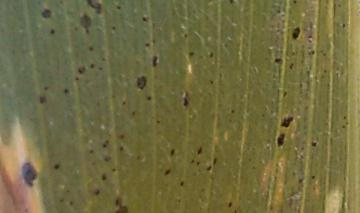tarspot: (20, 160, 38, 187), (78, 12, 92, 36), (113, 196, 129, 213), (134, 75, 147, 92), (280, 115, 294, 130), (86, 1, 102, 14), (276, 132, 286, 147), (291, 25, 301, 40), (182, 90, 190, 108), (40, 8, 52, 20), (150, 54, 159, 69), (37, 95, 48, 105), (77, 63, 86, 74), (211, 156, 219, 168), (140, 15, 150, 24), (101, 154, 111, 163), (161, 167, 171, 176), (117, 132, 126, 141), (196, 145, 203, 156), (310, 139, 318, 148), (273, 57, 282, 65), (62, 87, 71, 95), (87, 44, 95, 53), (168, 148, 176, 157), (151, 38, 157, 49), (154, 118, 162, 126), (205, 164, 213, 172), (296, 177, 304, 185), (99, 55, 107, 63), (187, 50, 194, 59), (52, 163, 60, 170), (94, 188, 101, 196), (100, 173, 107, 181), (42, 84, 49, 92), (114, 4, 122, 11), (307, 49, 315, 56), (87, 148, 95, 155), (110, 166, 117, 174), (58, 196, 65, 204), (226, 201, 233, 209), (335, 2, 343, 9), (72, 25, 79, 33), (281, 90, 287, 99), (208, 77, 214, 86), (88, 62, 95, 69), (97, 65, 104, 72), (146, 94, 152, 102), (288, 62, 294, 70), (208, 51, 214, 59), (49, 27, 55, 35), (110, 24, 116, 32), (118, 145, 124, 153), (179, 179, 184, 188), (183, 31, 188, 40), (143, 42, 150, 48), (68, 199, 74, 206), (73, 75, 79, 82), (130, 110, 136, 117), (310, 174, 316, 181), (341, 114, 347, 121), (275, 8, 281, 15), (195, 159, 200, 167), (121, 100, 127, 106), (101, 142, 107, 148), (322, 68, 328, 74), (189, 158, 195, 164), (341, 22, 346, 29), (306, 34, 313, 39), (58, 1, 65, 6), (227, 1, 235, 5), (230, 108, 235, 114), (232, 207, 237, 213), (291, 1, 297, 5)
